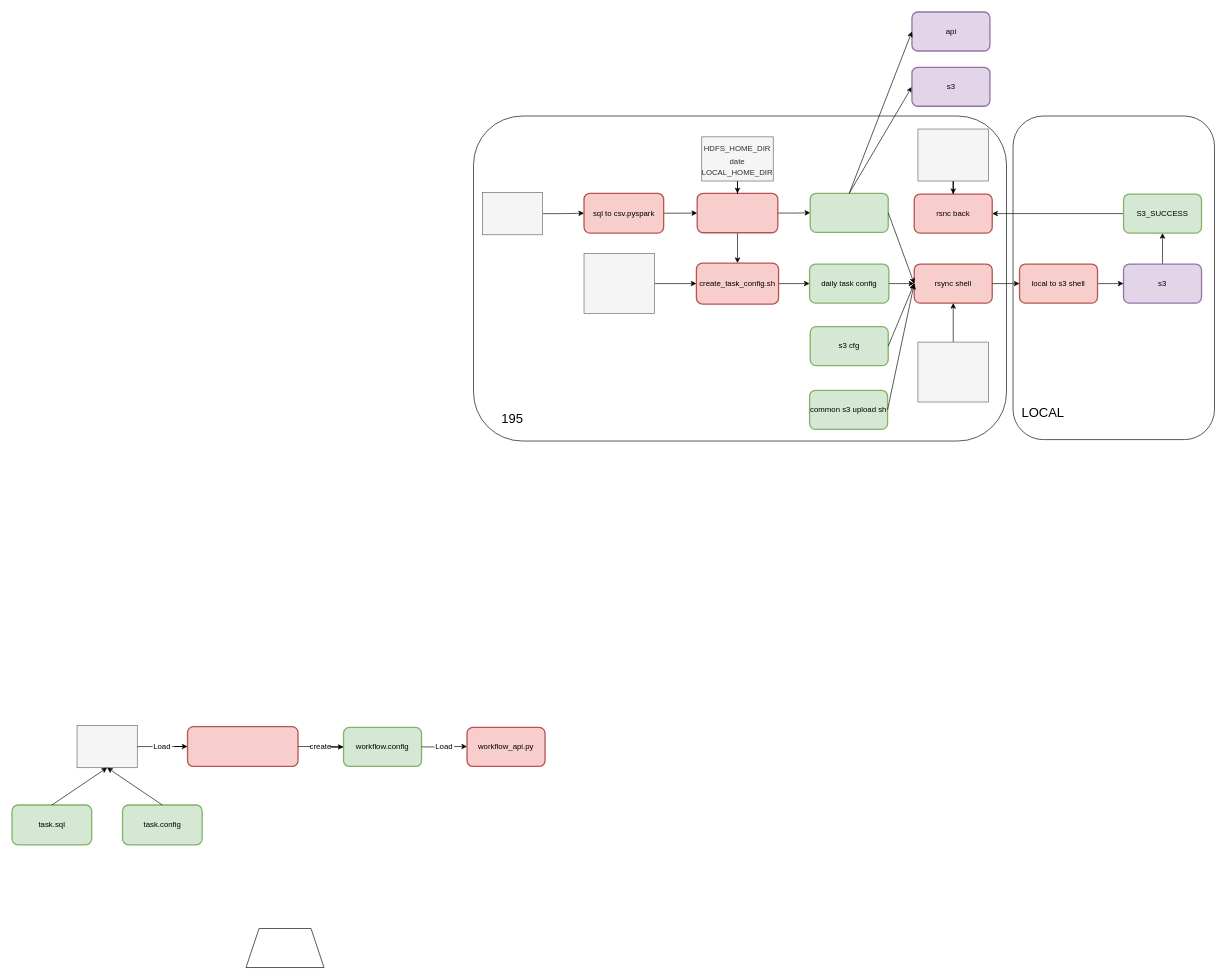
This 1226x979 diagram has some shape labels left out. Each missing label, with the centre of its shape:
"hdfs to path sh" belongs at (x=737, y=212).
"RSYNC_PATH LOCAL_USER_NAME RSYNC_IP file_name LOCAL_PATH" belongs at (x=953, y=371).
"RSYNC_PATH RYSYNC_USER_NAME RSYNC_IP date LOCAL_HOME_DIR" belongs at (x=953, y=154).
"RSYNC_PATH S3_config S3_PATH LOCAL_HOME_DIR" belongs at (x=619, y=283).
"split_num map task SQL" belongs at (x=512, y=213).
"task Path" belongs at (x=106, y=746).
"workflow_config_initialize.py" belongs at (x=242, y=746).
"zip file" belongs at (x=849, y=212).
